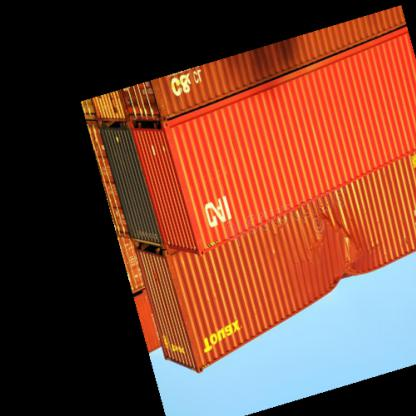Damage: (300, 224, 374, 282)
